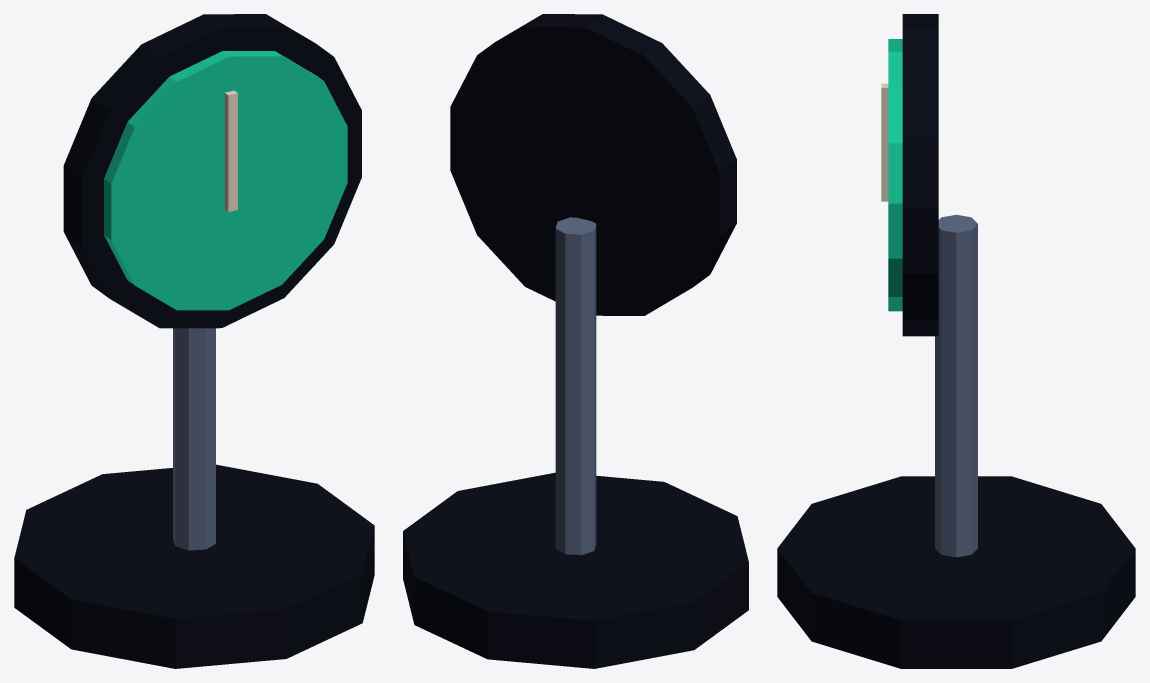
The model's file is radar_display.obj.
3 renders of one model, left to right at view 1: azimuth 30°, elevation 25°; view 2: azimuth 150°, elevation 25°; view 3: azimuth 270°, elevation 25°, orthographic. The views are drawn at different scales.
Visible parts, largest first — view 1: radar_display; view 2: radar_display; view 3: radar_display.
Boxes of the visible parts, <box> form: radar_display: <box>14,14,374,668</box>; radar_display: <box>403,14,748,668</box>; radar_display: <box>777,14,1135,668</box>.
Size of the model in its own units: 0.9511 by 1.75 by 1.
